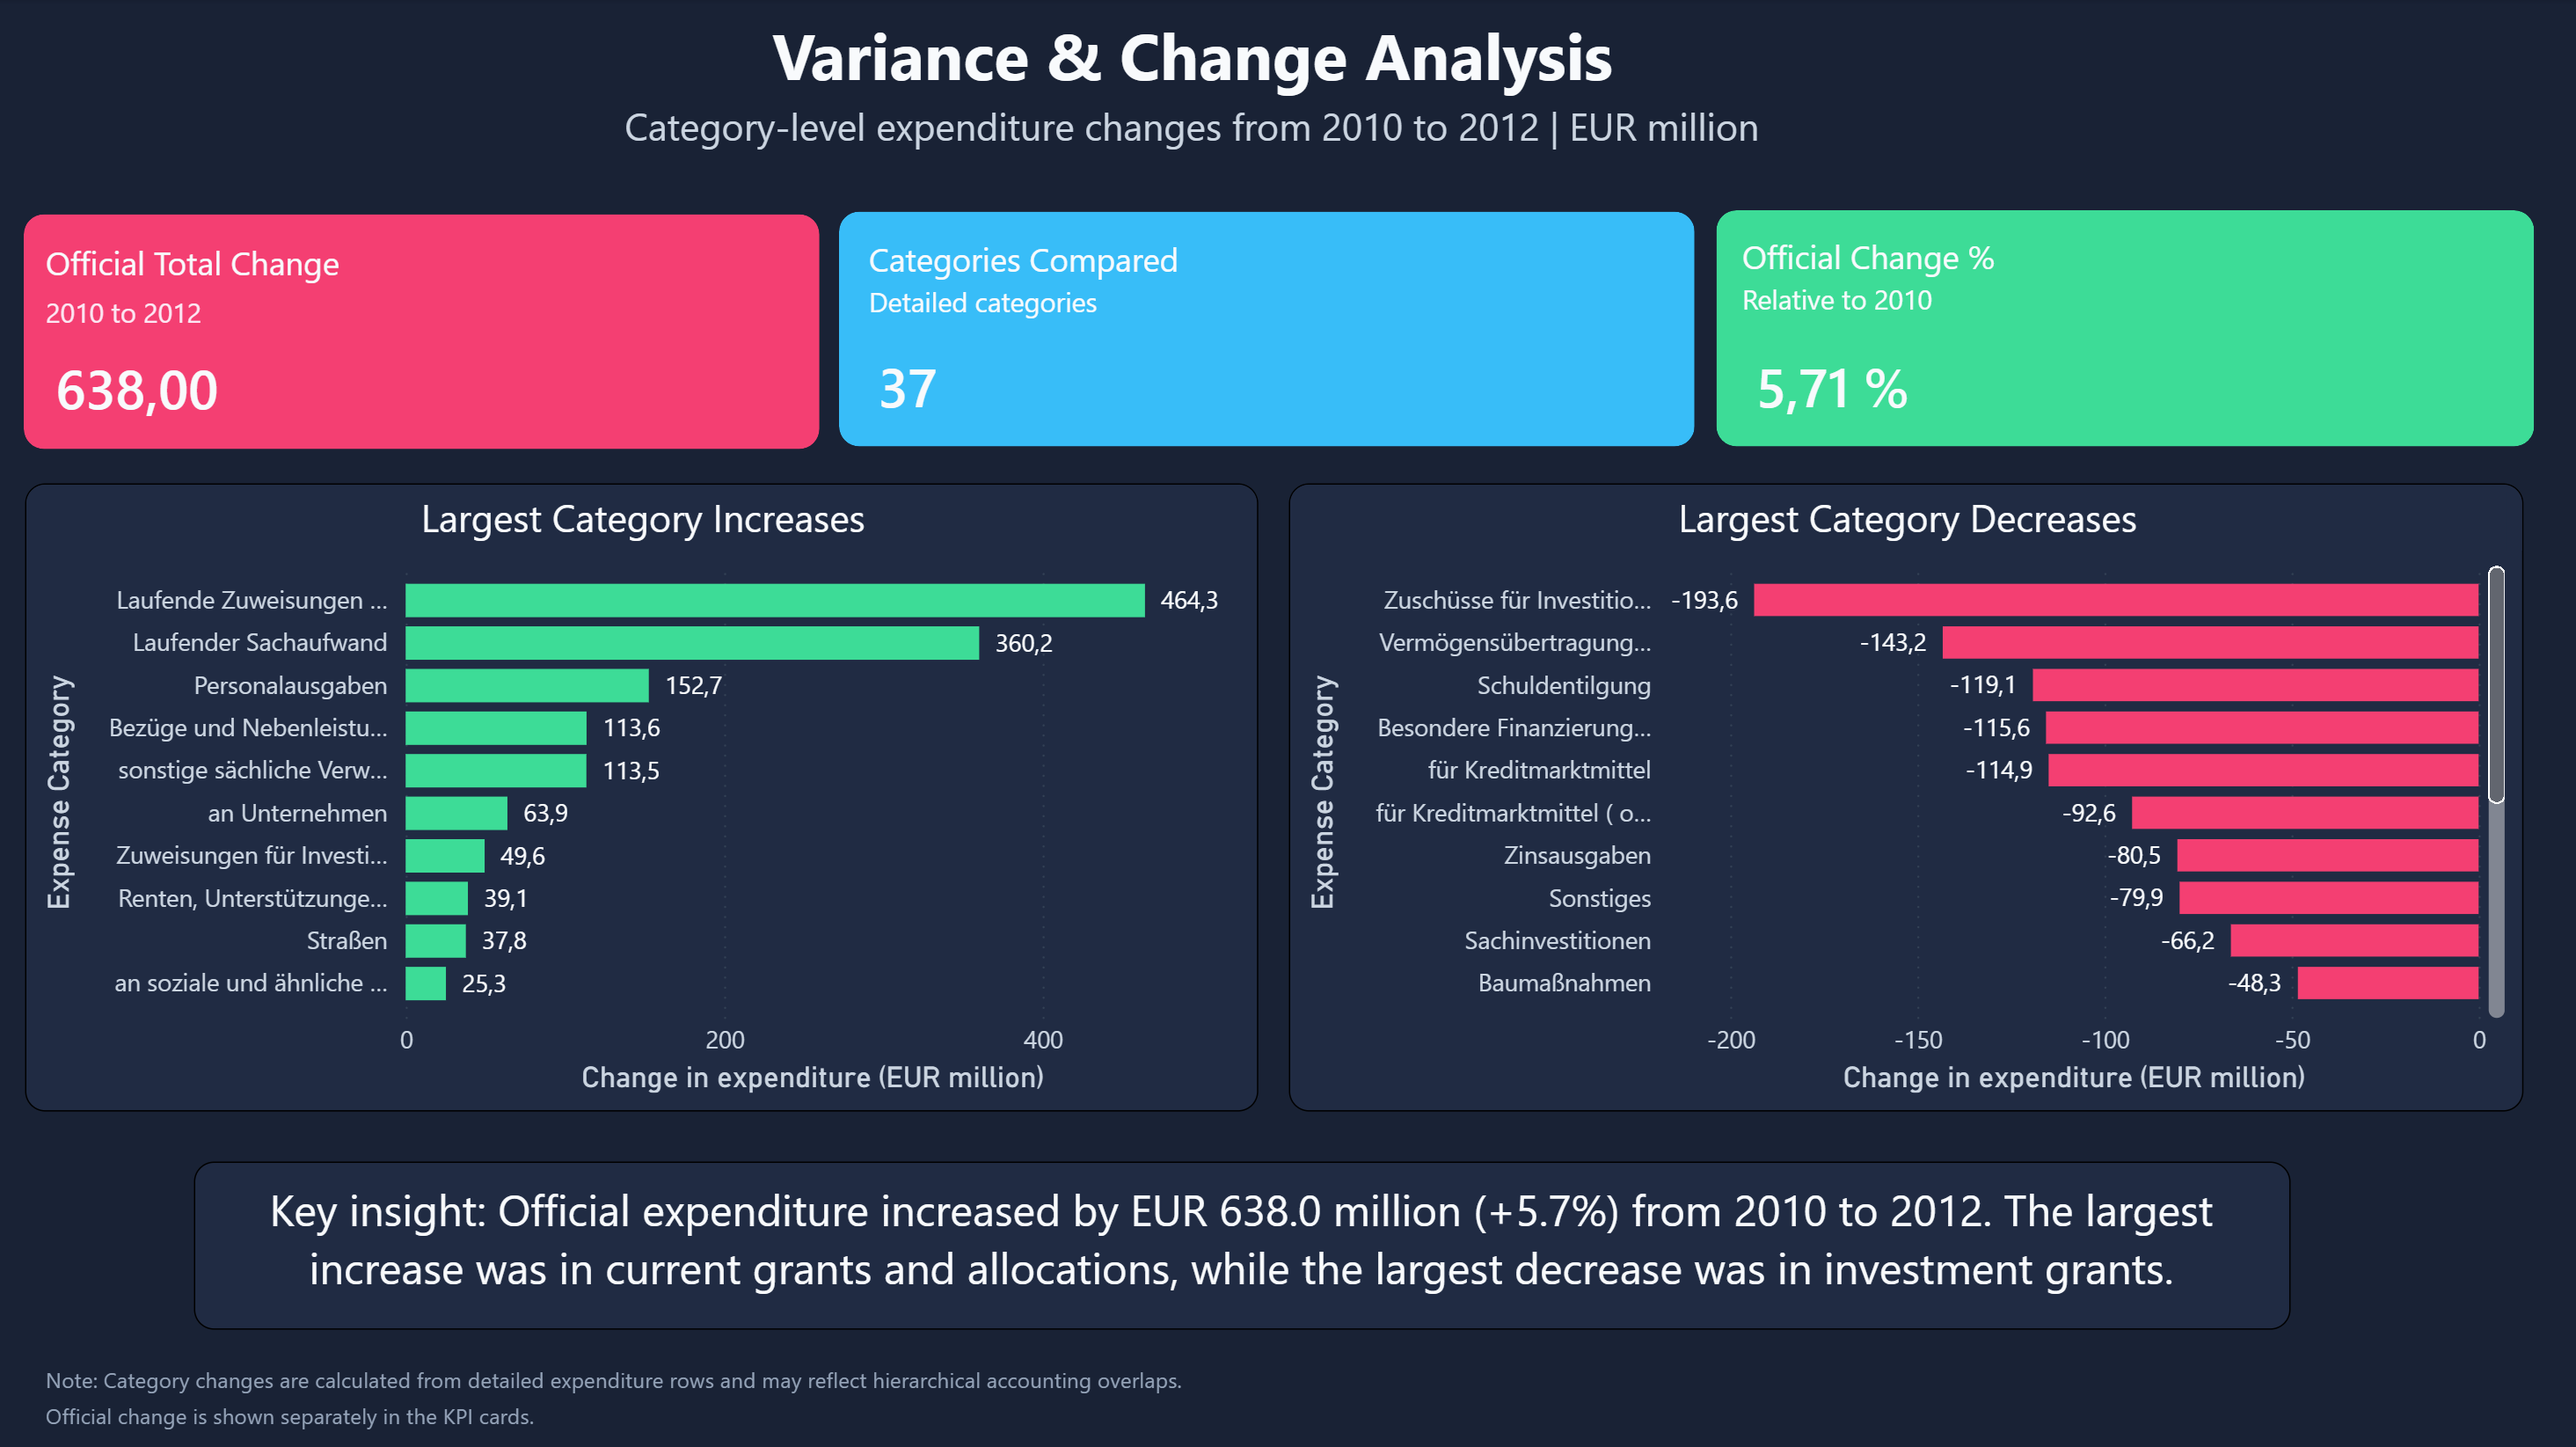

The dashboard page shown, as its layout file describes it:
{"tool":"powerbi","page":{"name":"Variance & Change Analysis","canvas":[1280,720],"ordinal":1},"visuals":[{"type":"textbox","box":[374.7,0,435.5,53],"z":0},{"type":"shape","box":[13,106.6,394.4,116.4],"z":0,"group":"g1"},{"type":"shape","box":[852.1,104.6,405.5,117.1],"z":500,"group":"g3"},{"type":"textbox","box":[291.7,26.8,601,58.2],"z":1000},{"type":"textbox","box":[19,114.4,255,31.4],"z":1000,"group":"g1"},{"type":"textbox","box":[19.1,140.6,95.5,29.4],"z":2000,"group":"g1"},{"type":"clusteredBarChart","title":"Largest Category Increases","fields":{"Category":["fact_expenses_detail.Expense Category"],"Y":["Measures (2).Change 2010-2012"]},"box":[13.7,240,611.4,311.3],"z":2000},{"type":"cardVisual","title":"Expense Categories","fields":{"Data":["Measures (2).Official Change % 2010-2012"]},"box":[836.4,150.4,147.8,80.4],"z":3000,"group":"g3"},{"type":"cardVisual","title":"Total Expenditure","fields":{"Data":["Measures (2).Official Change 2010-2012"]},"box":[0,154.3,158.3,73.2],"z":3000,"group":"g1"},{"type":"clusteredBarChart","title":"Largest Category Decreases","fields":{"Category":["fact_expenses_detail.Expense Category"],"Y":["Measures (2).Change 2010-2012"]},"box":[640.2,240,612.1,311.3],"z":3000},{"type":"group","id":"g1","title":"Group 1","box":[0,106.6,407.4,121],"z":4000},{"type":"group","id":"g2","title":"Group 2","box":[396.3,105.3,445.3,121.6],"z":5000},{"type":"textbox","box":[97.4,576.1,1039.1,83.1],"z":6000},{"type":"textbox","box":[19,668.3,584.6,45.8],"z":7000},{"type":"group","id":"g3","title":"Group 3","box":[836.4,104.6,421.1,126.2],"z":8000},{"type":"shape","box":[417.5,105.3,424.2,116.4],"z":9500,"group":"g2"},{"type":"textbox","box":[860.3,110.9,159.9,31.4],"z":11000,"group":"g3"},{"type":"textbox","box":[859.9,134,124.3,29.4],"z":13000,"group":"g3"},{"type":"textbox","box":[427,112.7,241.5,31.4],"z":14000,"group":"g2"},{"type":"textbox","box":[427,135.4,174,34.7],"z":15000,"group":"g2"},{"type":"cardVisual","title":"Average Share of Total","fields":{"Data":["Measures (2).Expense Categories"]},"box":[396.3,155,110.5,71.9],"z":16001,"group":"g2"}]}

Visuals, with their boxes in screenshot pixels (x1, y1, x2, y2), scaled from the page's 1280x720 canvas onto the 2576x1447 screenshot:
textbox: pyautogui.locateOnScreen(754, 0, 1631, 106)
shape: pyautogui.locateOnScreen(26, 215, 820, 448)
shape: pyautogui.locateOnScreen(1715, 210, 2531, 446)
textbox: pyautogui.locateOnScreen(587, 54, 1797, 171)
textbox: pyautogui.locateOnScreen(38, 230, 551, 293)
textbox: pyautogui.locateOnScreen(39, 282, 230, 341)
"Largest Category Increases" clusteredBarChart: pyautogui.locateOnScreen(27, 482, 1258, 1108)
"Expense Categories" cardVisual: pyautogui.locateOnScreen(1683, 303, 1981, 464)
"Total Expenditure" cardVisual: pyautogui.locateOnScreen(0, 311, 318, 457)
"Largest Category Decreases" clusteredBarChart: pyautogui.locateOnScreen(1288, 482, 2521, 1108)
"Group 1" group: pyautogui.locateOnScreen(0, 215, 820, 457)
"Group 2" group: pyautogui.locateOnScreen(798, 212, 1694, 456)
textbox: pyautogui.locateOnScreen(196, 1158, 2288, 1325)
textbox: pyautogui.locateOnScreen(38, 1343, 1215, 1436)
"Group 3" group: pyautogui.locateOnScreen(1683, 210, 2531, 464)
shape: pyautogui.locateOnScreen(840, 212, 1694, 446)
textbox: pyautogui.locateOnScreen(1732, 223, 2054, 286)
textbox: pyautogui.locateOnScreen(1731, 269, 1981, 328)
textbox: pyautogui.locateOnScreen(859, 226, 1346, 289)
textbox: pyautogui.locateOnScreen(859, 272, 1209, 342)
"Average Share of Total" cardVisual: pyautogui.locateOnScreen(798, 311, 1020, 456)
